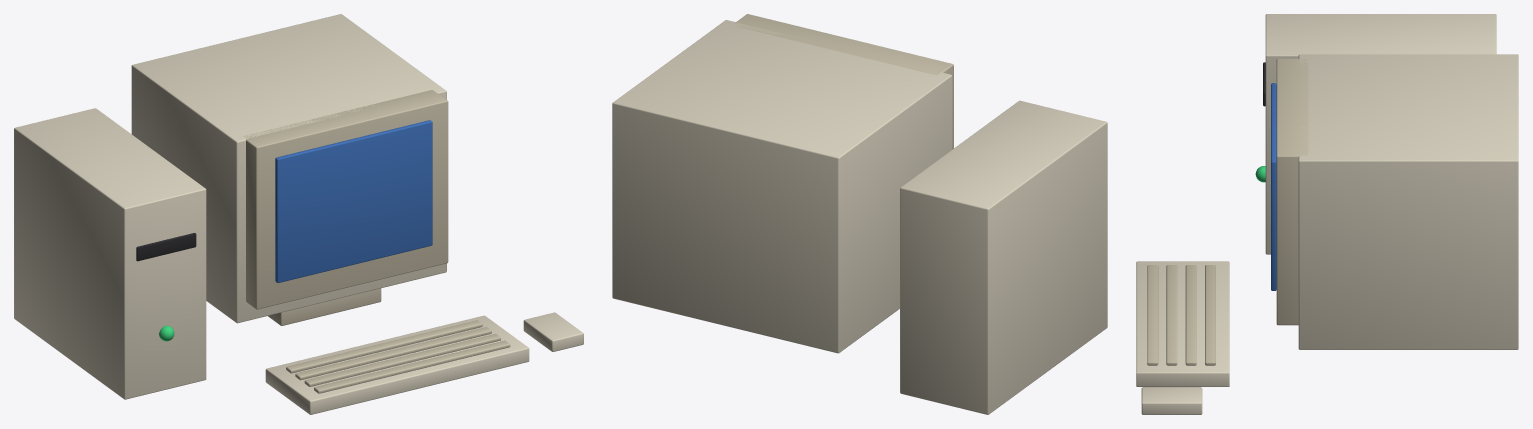
File: computador_2002.glb
The picture shows the model from 3 angles, left to right: view 1: azimuth 30°, elevation 25°; view 2: azimuth 150°, elevation 25°; view 3: azimuth 270°, elevation 25°; orthographic projection. The views are drawn at different scales.
Visible parts, largest first — view 1: computador_2002; view 2: computador_2002; view 3: computador_2002.
Part boxes in pixels (bbox=[...]): computador_2002: bbox=[14, 14, 583, 414]; computador_2002: bbox=[612, 14, 1107, 414]; computador_2002: bbox=[1136, 14, 1518, 414].
Bounding box in the file's own units: 0.875 × 0.45 × 0.695.
